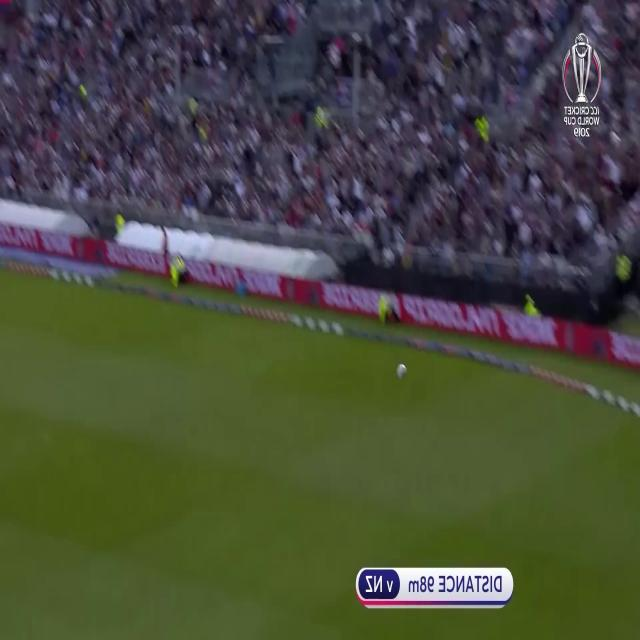ball: (395, 363, 408, 385)
